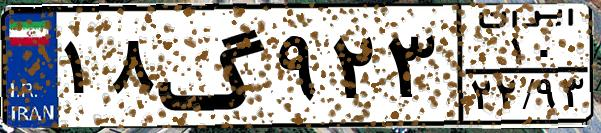0: (537, 27, 568, 80)
1: (57, 26, 110, 100), (508, 27, 537, 80)
2: (330, 28, 385, 110), (470, 70, 495, 125), (495, 70, 520, 125)
3: (385, 28, 445, 110), (560, 70, 590, 125)
8: (110, 28, 156, 98)
9: (270, 28, 330, 110), (535, 70, 560, 125)
گ: (156, 12, 270, 120)
